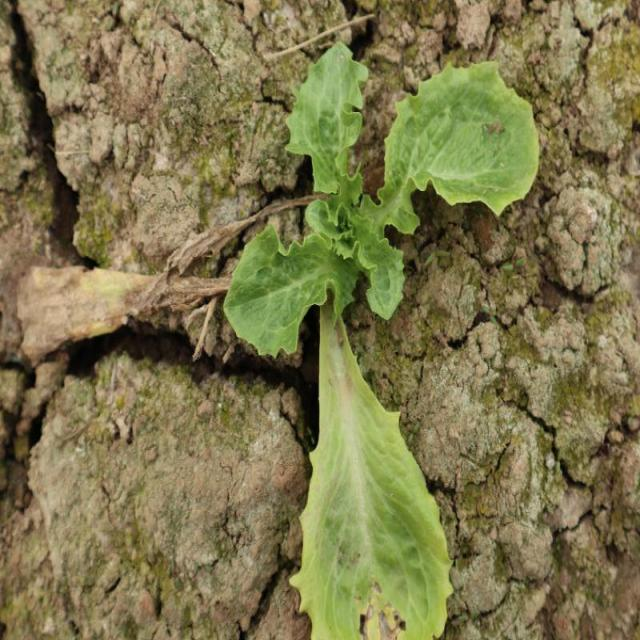crop: (225, 41, 539, 634)
